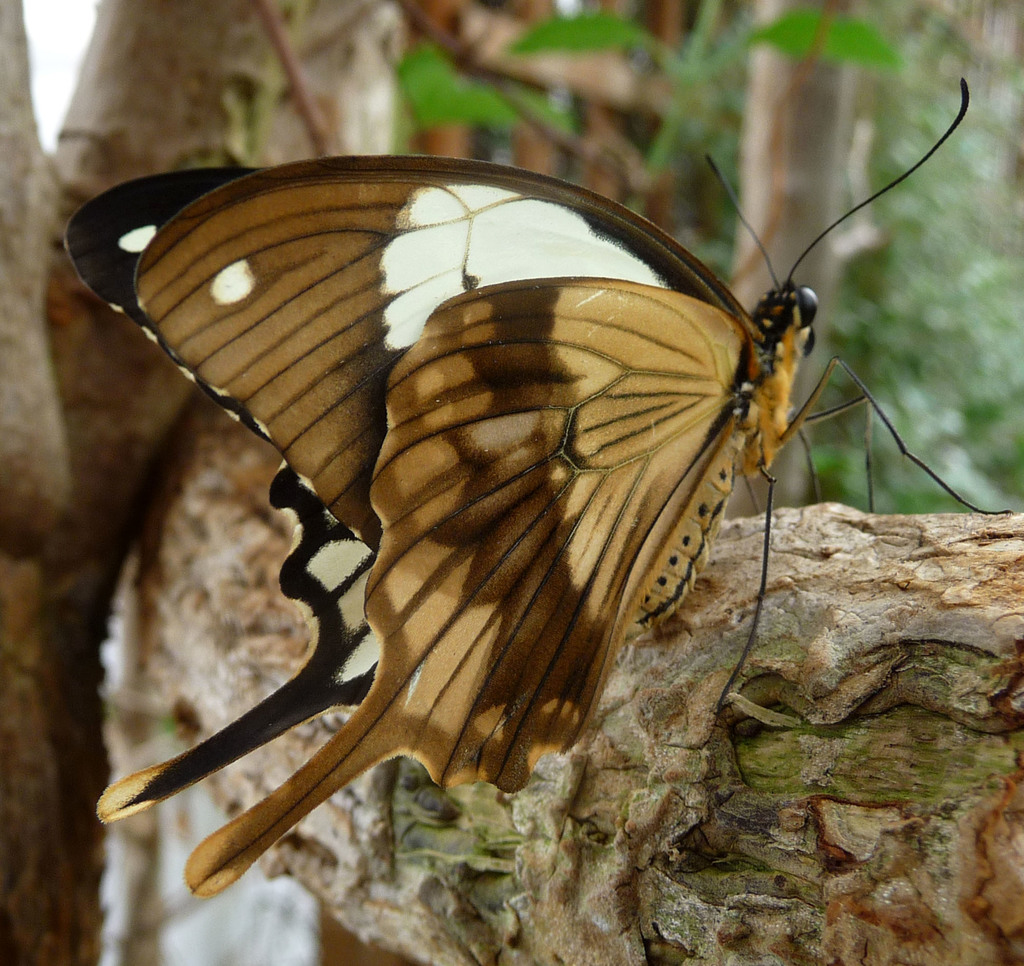Butterfly: (44, 132, 849, 873)
